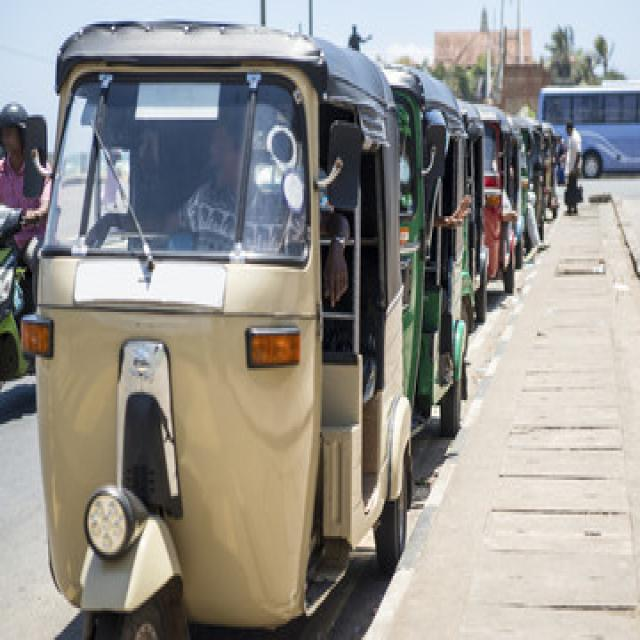bus: (540, 83, 638, 179)
motorcycle: (0, 205, 32, 381)
person: (0, 101, 50, 285), (565, 120, 580, 213)
three wheeler: (21, 24, 460, 640), (384, 67, 484, 432), (478, 104, 516, 293), (514, 117, 542, 256), (516, 117, 539, 267), (544, 123, 556, 219)
